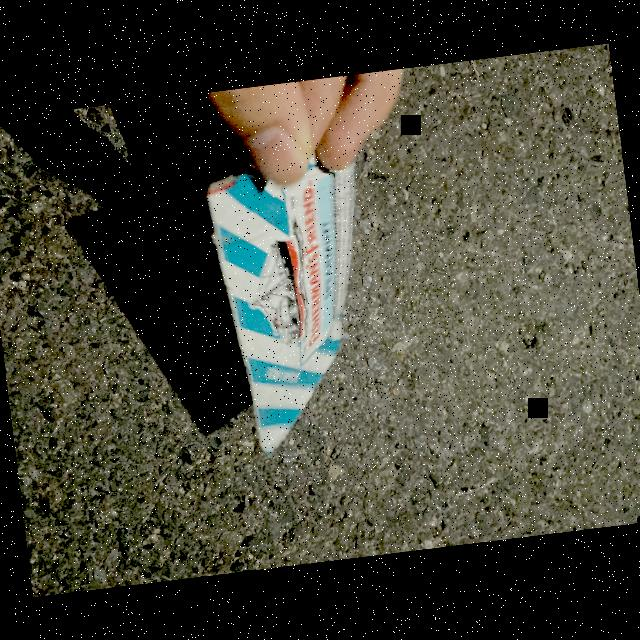snack_bag: (200, 120, 400, 469)
